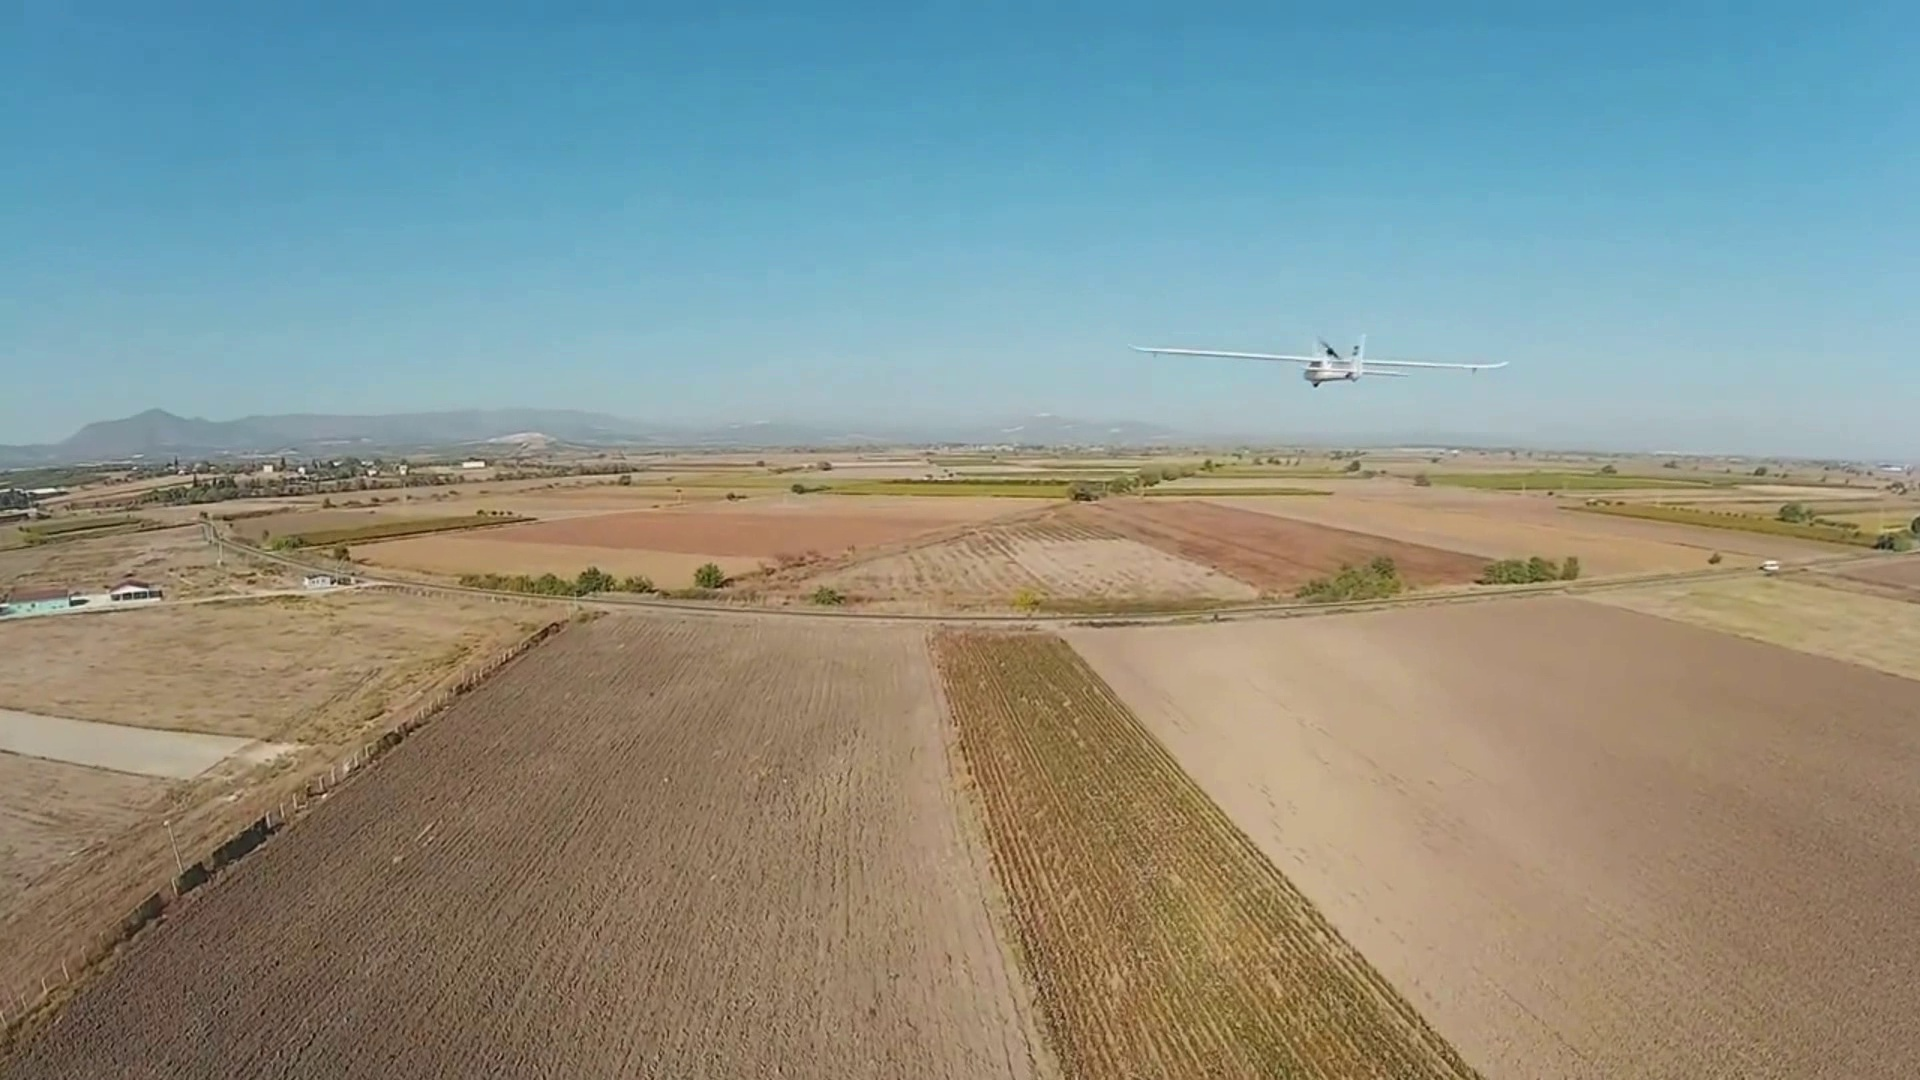airplane: (1134, 332, 1510, 386)
